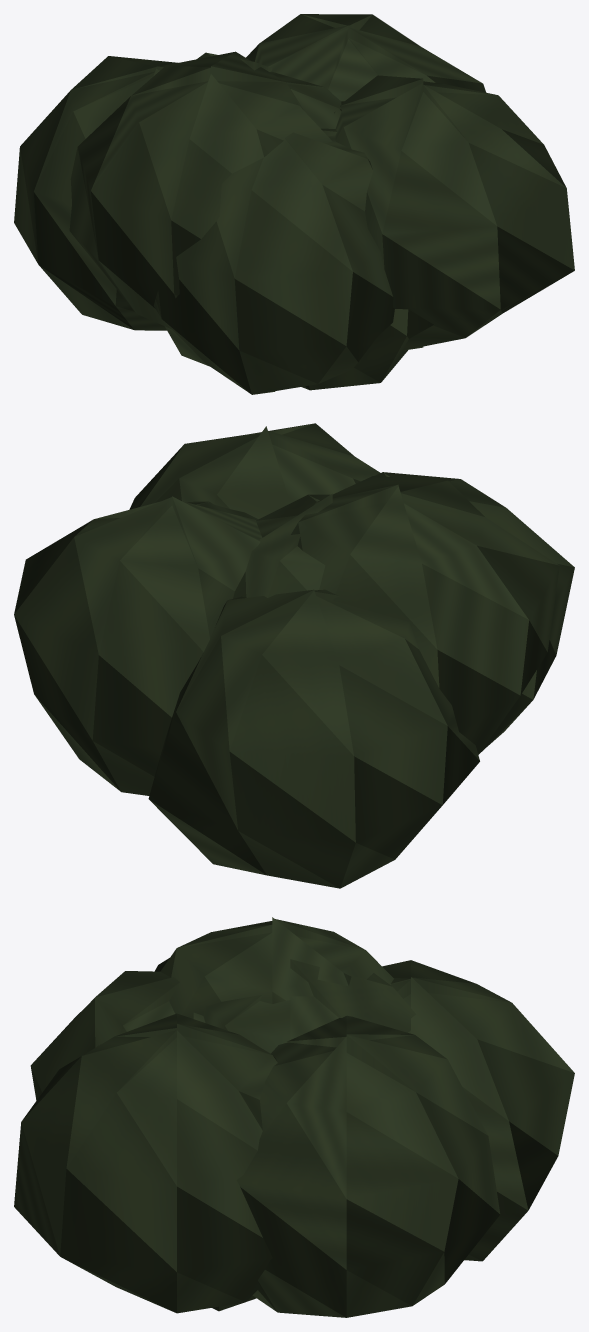
Rendered from env_bush_stealth_a.glb.
3 views of the same model, one above another, from view 1: azimuth 30°, elevation 25°; view 2: azimuth 150°, elevation 25°; view 3: azimuth 270°, elevation 25° (orthographic). The views are drawn at different scales.
Visible parts, largest first — view 1: env_bush_stealth_a; view 2: env_bush_stealth_a; view 3: env_bush_stealth_a.
Part boxes in pixels (x1,y1,x2,y2): env_bush_stealth_a: [14, 14, 574, 394]; env_bush_stealth_a: [14, 423, 574, 888]; env_bush_stealth_a: [14, 917, 574, 1317].
Bounding box in the file's own units: 1.37 × 0.9709 × 1.48.
Materials: 1 (1 with a texture image).
